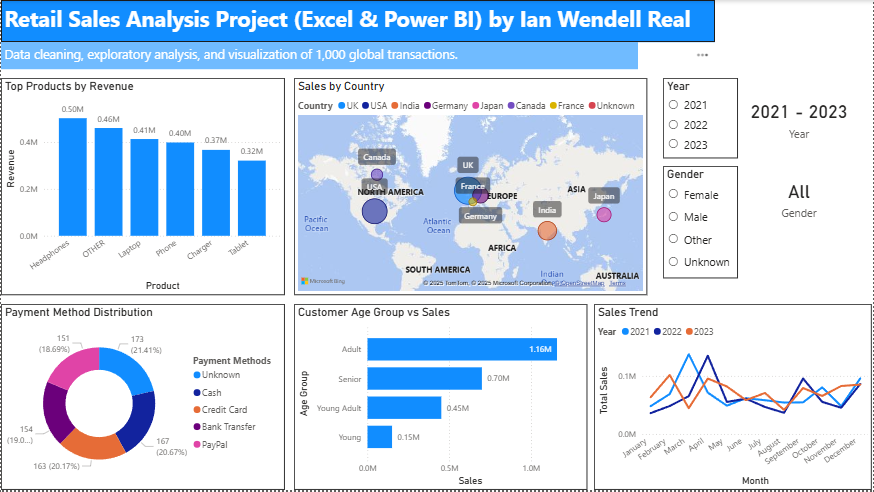

What the dashboard file says about the page in this screenshot:
{"tool":"powerbi","page":{"name":"Page 1","canvas":[1280,720],"ordinal":0},"visuals":[{"type":"columnChart","title":"Top Products by Revenue","fields":{"Category":["CLEANED.Product"],"Y":["Sum(CLEANED.Total)"]},"box":[0,114.6,417.3,318.9],"z":0},{"type":"map","title":"Sales by Country","fields":{"Category":["CLEANED.Country"],"Size":["Sum(CLEANED.Total)"],"Series":["CLEANED.Country"]},"box":[430.5,114.6,518.7,318.9],"z":1000},{"type":"donutChart","title":"Payment Method Distribution","fields":{"Y":["CountNonNull(CLEANED.OrderID)"],"Category":["CLEANED.PaymentMethod"]},"box":[0,446.7,417.3,273.3],"z":2000},{"type":"barChart","title":"Customer Age Group vs Sales","fields":{"Category":["CLEANED.AgeGroup"],"Y":["Sum(CLEANED.Total)"]},"box":[430.5,446.7,430.5,273.3],"z":3000},{"type":"lineChart","title":"Sales Trend","fields":{"Category":["CLEANED.PurchaseDate.Variation.Date Hierarchy.Month"],"Y":["Sum(CLEANED.Total)"],"Series":["CLEANED.PurchaseDate.Variation.Date Hierarchy.Year"]},"box":[871.3,446.7,408.5,273.3],"z":4000},{"type":"listSlicer","fields":{"Values":["CLEANED.PurchaseDate.Variation.Date Hierarchy.Year"]},"box":[972.7,114.6,110.2,117.6],"z":5000},{"type":"textbox","box":[0,0,1049.1,61.7],"z":6000},{"type":"textbox","box":[0,61.7,936,39.7],"z":7000},{"type":"card","fields":{"Values":["CLEANED.YearCard"]},"box":[1088.8,139.6,167.5,67.6],"z":8000},{"type":"listSlicer","fields":{"Values":["CLEANED.Gender"]},"box":[972.7,243.9,110.2,164.6],"z":9000},{"type":"card","fields":{"Values":["CLEANED.Measure"]},"box":[1088.8,254.2,167.5,72],"z":10000},{"type":"actionButton","box":[0,0,100,40],"z":10001}]}

Visuals, with their boxes in screenshot pixels (x1, y1, x2, y2), scaled from the page's 1280x720 canvas onto the 874x492 screenshot:
"Top Products by Revenue" columnChart: region(0, 78, 285, 296)
"Sales by Country" map: region(294, 78, 648, 296)
"Payment Method Distribution" donutChart: region(0, 305, 285, 491)
"Customer Age Group vs Sales" barChart: region(294, 305, 588, 491)
"Sales Trend" lineChart: region(595, 305, 873, 491)
listSlicer - CLEANED.PurchaseDate.Variation.Date Hierarchy.Year: region(664, 78, 739, 159)
textbox: region(0, 0, 716, 42)
textbox: region(0, 42, 639, 69)
card - CLEANED.YearCard: region(743, 95, 858, 142)
listSlicer - CLEANED.Gender: region(664, 167, 739, 279)
card - CLEANED.Measure: region(743, 174, 858, 223)
actionButton: region(0, 0, 68, 27)
